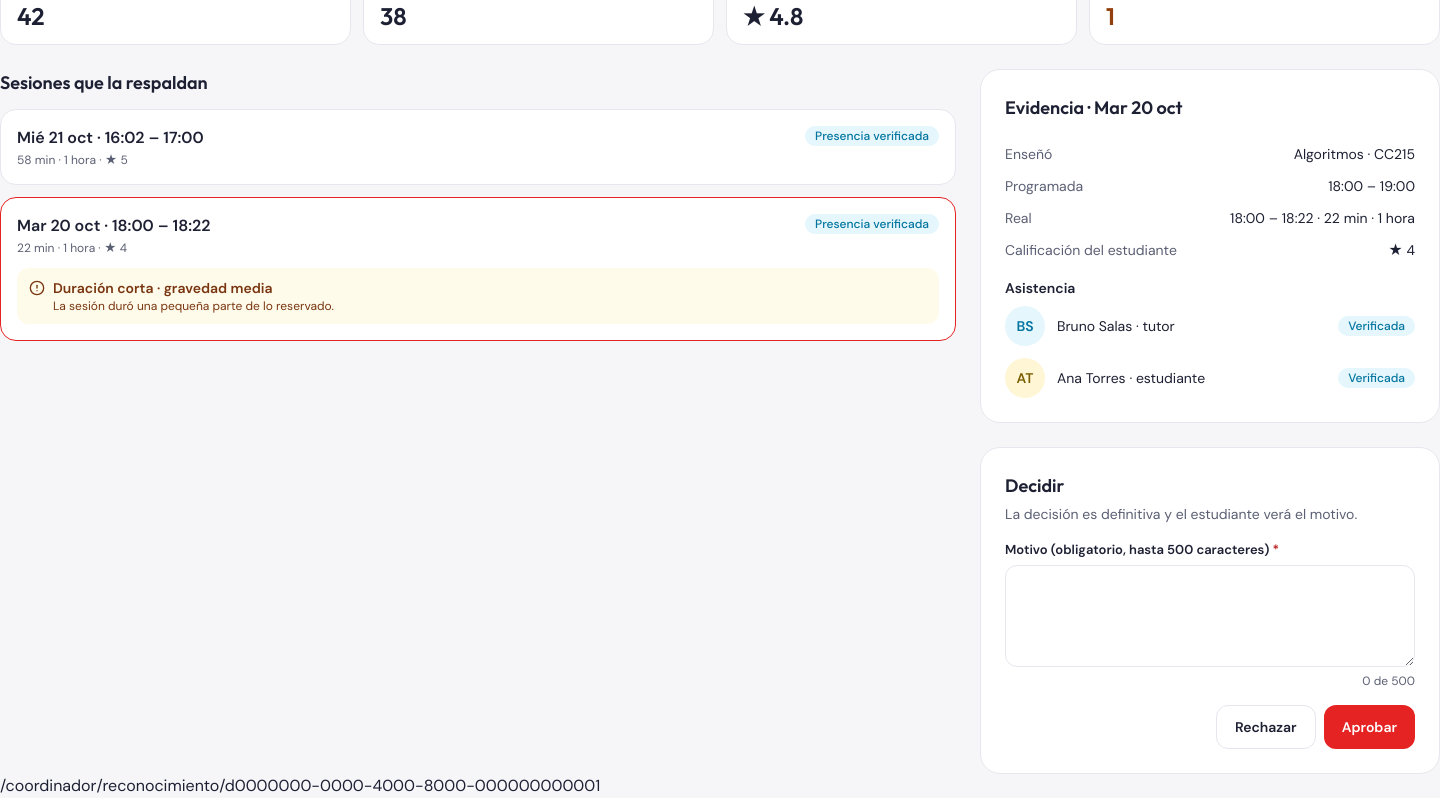
Test: FE-51 deciding a recognition case › shows the decision that stands when someone else decided first
(page scrolled)
Type "No cumple." into the text box at coordinates (1210, 616), box [1005,565,1415,667]
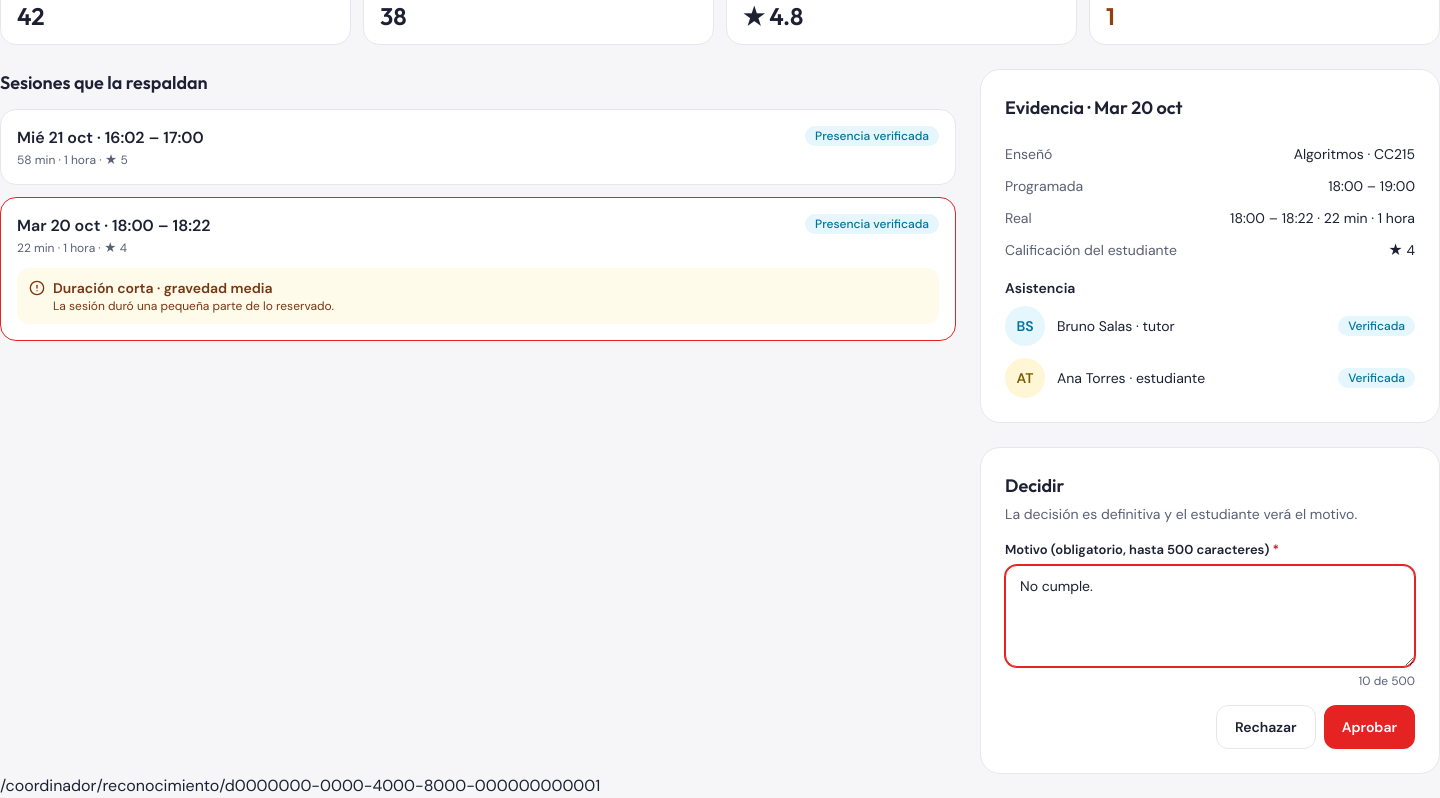
Click the button "Rechazar" at coordinates (1266, 727), box [1216,705,1316,749]
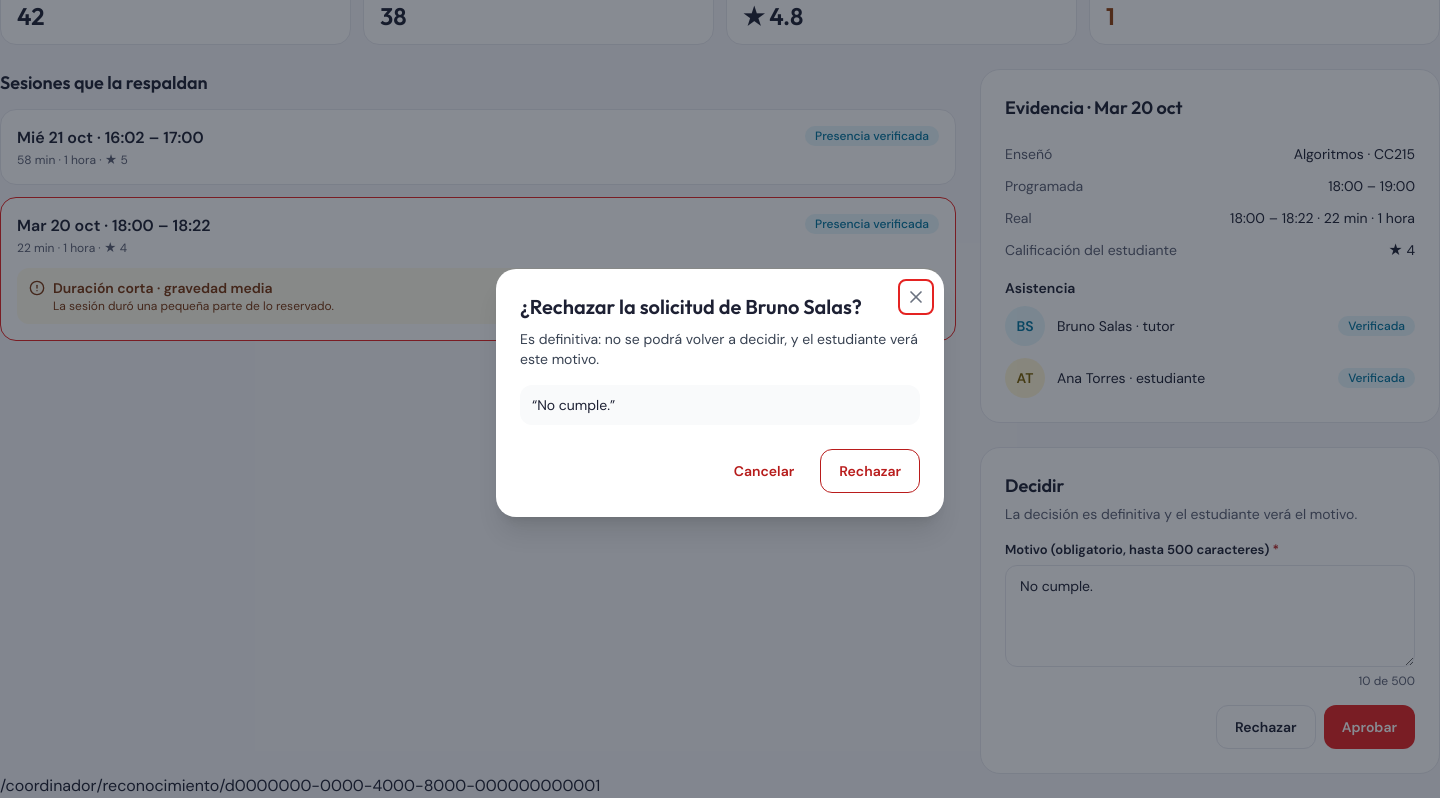
Click the button "Rechazar" at coordinates (870, 471), box [820,449,920,493]
(page scrolled)
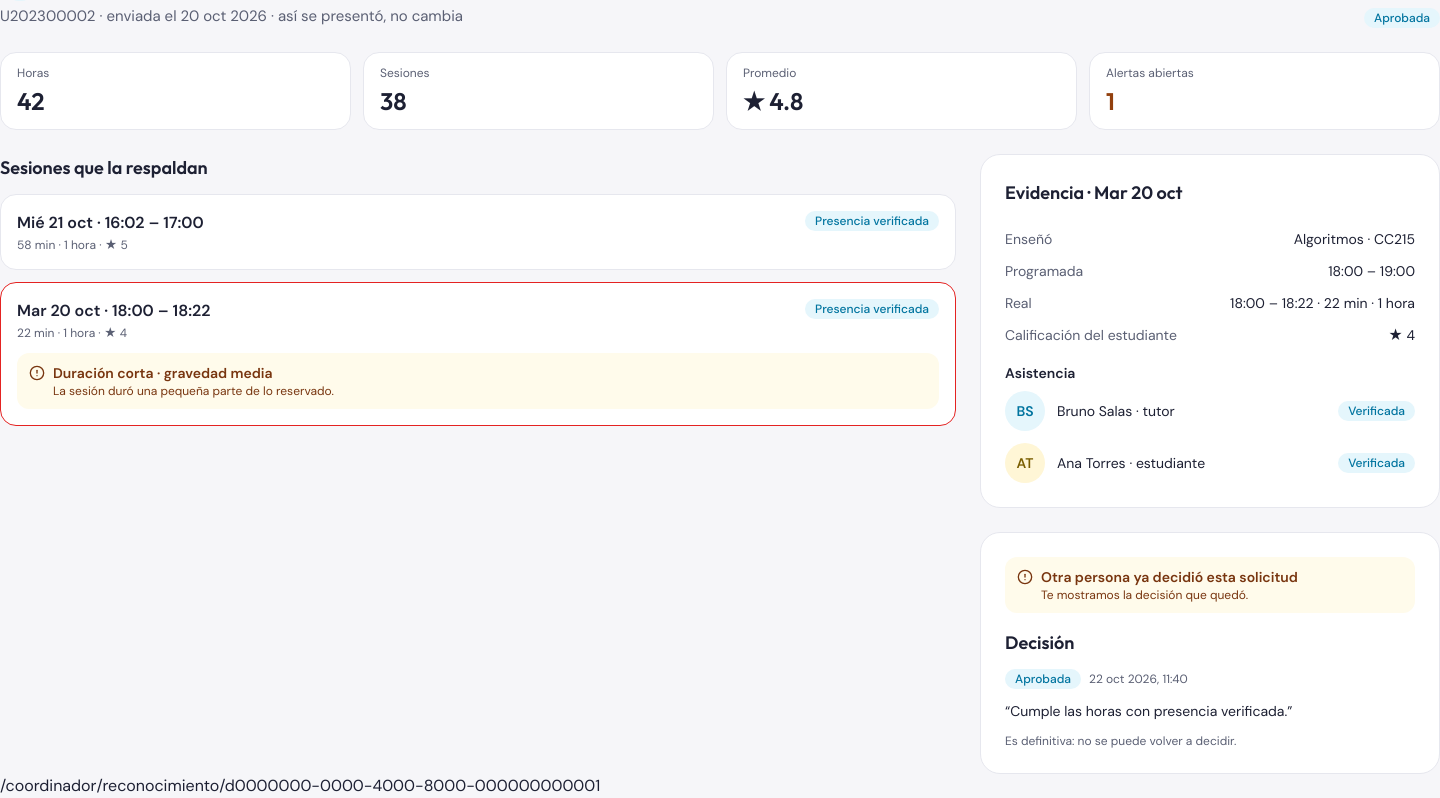
Now the text "Otra persona ya decidió esta solicitud" is shown, box [1041,566,1298,586]
Now the text "“Cumple las horas con presencia verificada.”" is shown, box [1005,702,1292,720]
